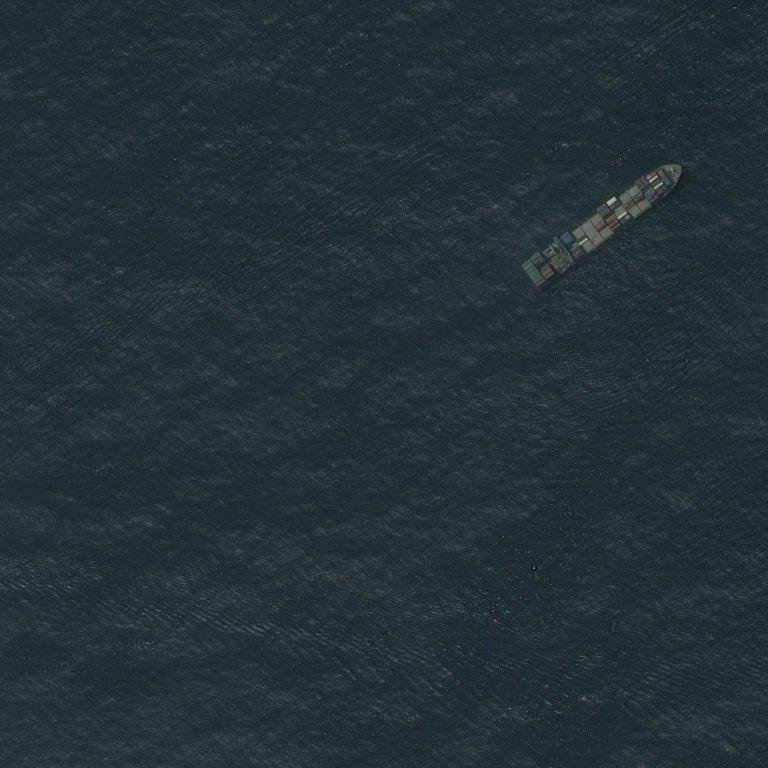ship: (518, 196, 687, 252), (520, 262, 525, 268), (536, 53, 541, 58), (679, 164, 682, 169)
